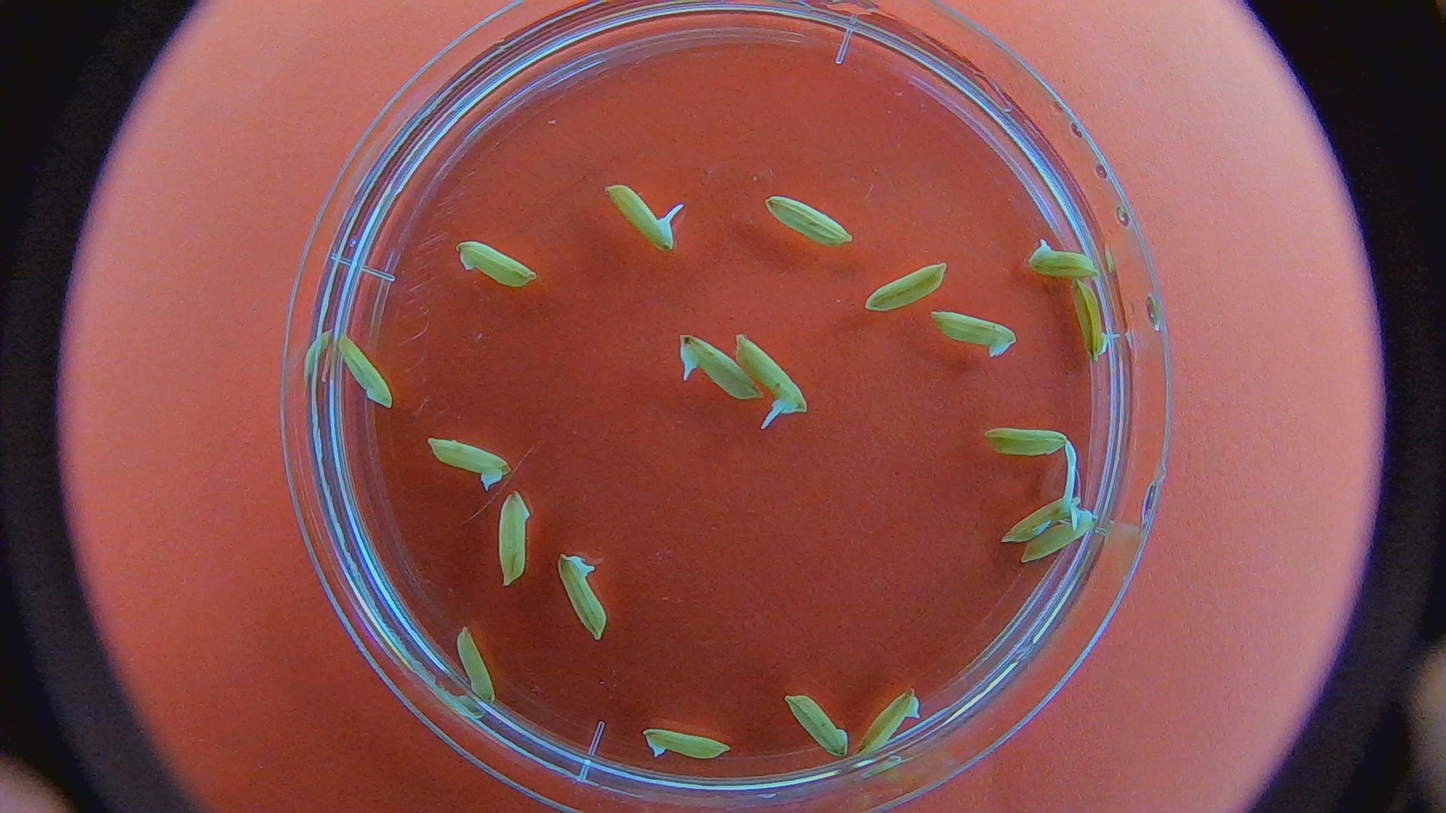no: (331, 328, 395, 410), (767, 190, 850, 250), (1025, 510, 1101, 569), (558, 551, 606, 641), (862, 259, 943, 312), (933, 306, 1017, 357), (857, 687, 918, 757), (455, 238, 537, 289), (429, 437, 513, 486), (786, 692, 850, 755), (980, 416, 1068, 458), (453, 628, 498, 705), (499, 489, 531, 588), (1026, 238, 1099, 277), (645, 727, 728, 760)
yes: (737, 330, 807, 419), (679, 340, 758, 400), (612, 181, 679, 250), (997, 492, 1079, 544), (1070, 279, 1111, 360)
